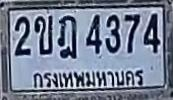2: (14, 15, 30, 55)
3: (105, 14, 119, 52)
4: (143, 12, 159, 52), (85, 14, 101, 53)
7: (124, 13, 139, 52)
A02: (34, 15, 52, 54)
A14: (57, 15, 76, 58)
BKK: (28, 64, 148, 92)
